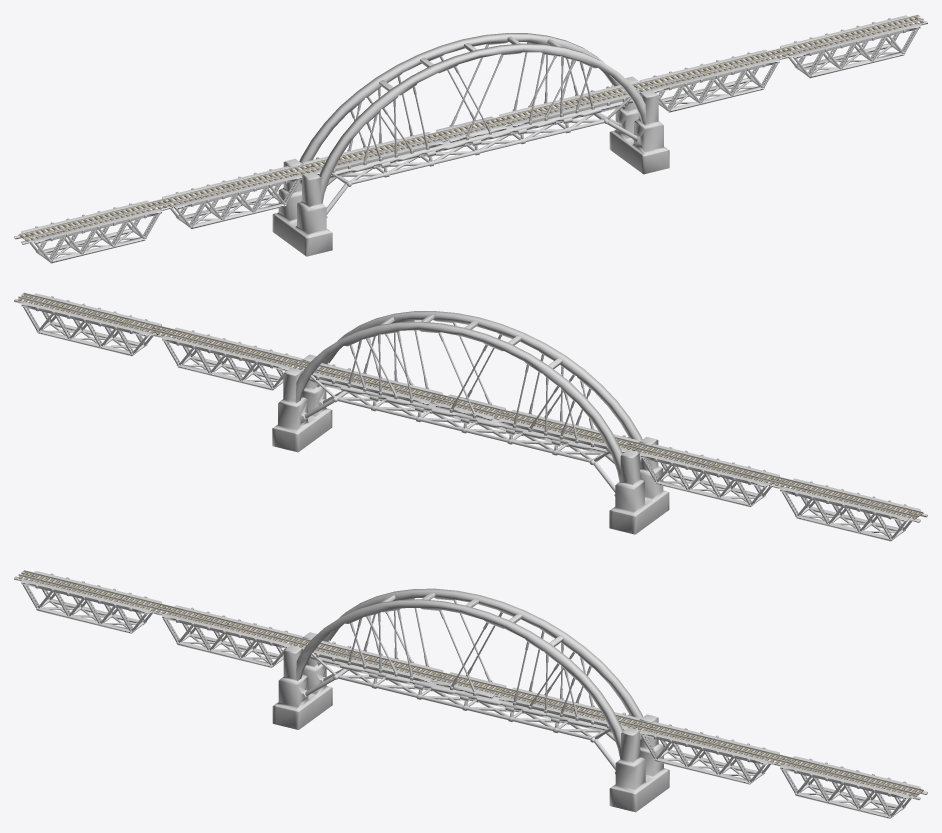
The model's file is bridge.glb.
The picture shows the model from 3 angles, top to bottom: view 1: azimuth 30°, elevation 25°; view 2: azimuth 150°, elevation 25°; view 3: azimuth 330°, elevation 25°; orthographic projection.
Visible parts, largest first — view 1: supportstructure_1, sleepers001_1; view 2: supportstructure_1, sleepers001_1; view 3: supportstructure_1, sleepers001_1.
Part boxes in pixels (x1=…): supportstructure_1: x1=14, y1=14, x2=927, y2=263; sleepers001_1: x1=19, y1=17, x2=923, y2=241; supportstructure_1: x1=14, y1=292, x2=927, y2=541; sleepers001_1: x1=18, y1=295, x2=922, y2=519; supportstructure_1: x1=14, y1=570, x2=927, y2=818; sleepers001_1: x1=18, y1=572, x2=923, y2=797.
Bounding box in the file's own units: 147 × 23.89 × 9.52.
